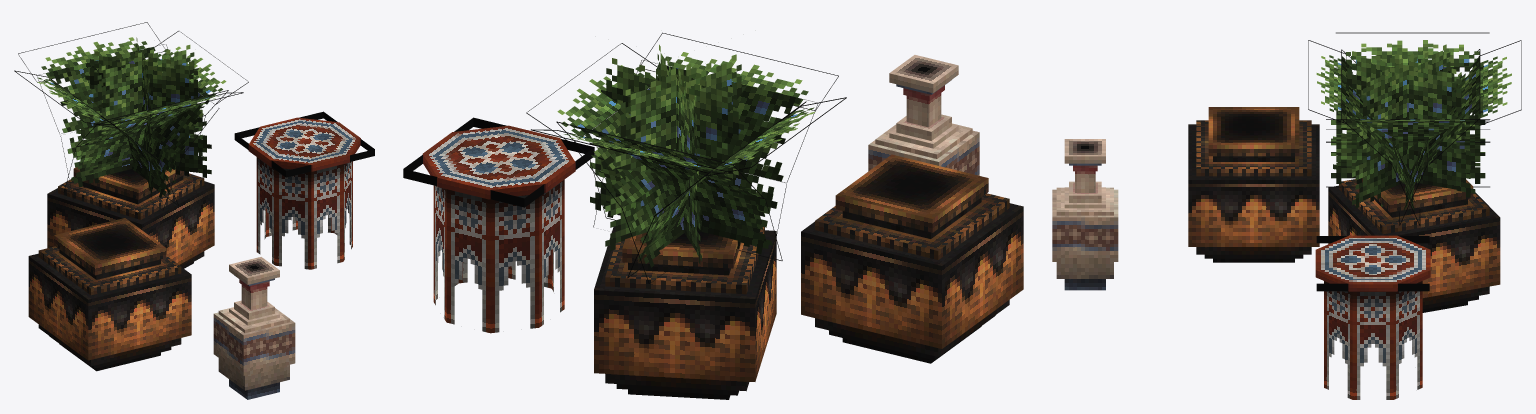
Rendered from conquest-reforged-props-3.obj.
3 views of the same model, side by side, from view 1: azimuth 30°, elevation 25°; view 2: azimuth 150°, elevation 25°; view 3: azimuth 270°, elevation 25° (orthographic). The views are drawn at different scales.
Visible parts, largest first — view 1: obj269, obj266, obj225, obj74, obj107, obj255, obj176, obj89, obj185, obj161, obj104, obj41 (+39 smaller); view 2: obj108, obj270, obj225, obj266, obj255, obj216, obj210, obj80, obj90, obj24, obj114, obj48 (+36 smaller); view 3: obj265, obj79, obj103, obj225, obj73, obj193, obj255, obj157, obj199, obj191, obj273, obj61 (+32 smaller).
Part boxes in pixels (left/top/right/bottom): obj269: left=88, top=274, right=191, bottom=360; obj266: left=28, top=256, right=88, bottom=359; obj225: left=250, top=118, right=359, bottom=164; obj74: left=76, top=51, right=211, bottom=177; obj107: left=142, top=184, right=214, bottom=264; obj255: left=54, top=218, right=165, bottom=265; obj176: left=275, top=168, right=311, bottom=269; obj89: left=86, top=49, right=206, bottom=172; obj185: left=311, top=164, right=343, bottom=269; obj161: left=243, top=323, right=295, bottom=375; obj104: left=47, top=194, right=141, bottom=248; obj41: left=58, top=47, right=155, bottom=132; obj108: left=594, top=290, right=755, bottom=381; obj270: left=801, top=231, right=941, bottom=348; obj225: left=423, top=126, right=574, bottom=189; obj266: left=942, top=206, right=1023, bottom=348; obj255: left=836, top=154, right=988, bottom=218; obj216: left=490, top=195, right=539, bottom=333; obj210: left=446, top=189, right=490, bottom=332; obj80: left=605, top=63, right=756, bottom=237; obj90: left=590, top=58, right=750, bottom=246; obj24: left=676, top=71, right=801, bottom=181; obj114: left=605, top=277, right=746, bottom=391; obj48: left=598, top=168, right=772, bottom=248; obj265: left=1188, top=180, right=1319, bottom=246; obj79: left=1333, top=51, right=1475, bottom=197; obj103: left=1398, top=217, right=1500, bottom=297; obj225: left=1316, top=236, right=1429, bottom=283; obj73: left=1352, top=52, right=1453, bottom=206; obj193: left=1352, top=291, right=1393, bottom=399; obj255: left=1208, top=107, right=1299, bottom=144; obj157: left=1052, top=217, right=1118, bottom=261; obj199: left=1393, top=281, right=1422, bottom=399; obj191: left=1324, top=281, right=1352, bottom=399; obj273: left=1196, top=120, right=1311, bottom=168; obj61: left=1331, top=120, right=1485, bottom=142.
Size of the model in its own units: 53.5 by 34 by 57.03.
Materials: 7 (7 with a texture image).
